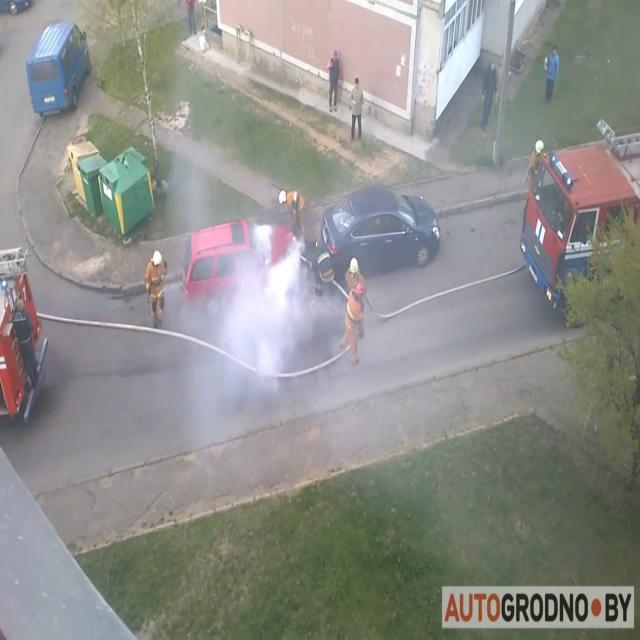Smoke: (152, 131, 316, 508)
